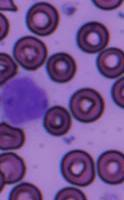L: (0, 72, 50, 127)
